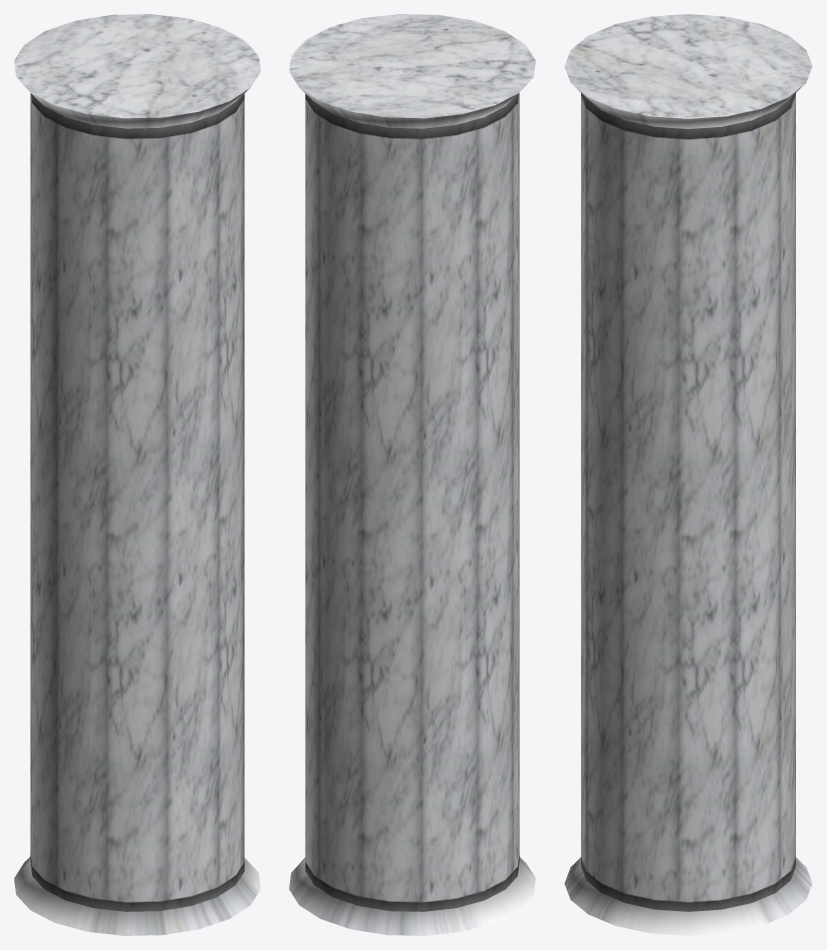
File: tower.fbx
3 renders of one model, left to right at view 1: azimuth 30°, elevation 25°; view 2: azimuth 150°, elevation 25°; view 3: azimuth 270°, elevation 25°, orthographic.
Parts seen in each view (by area): view 1: pCylinder1; view 2: pCylinder1; view 3: pCylinder1.
Part boxes in pixels (x1,y1,x2,y2): pCylinder1: (14,14,260,935); pCylinder1: (289,14,535,935); pCylinder1: (564,14,812,935).
Size of the model in its own units: 1.15 by 4.22 by 1.15.
Materials: 1 (1 with a texture image).
